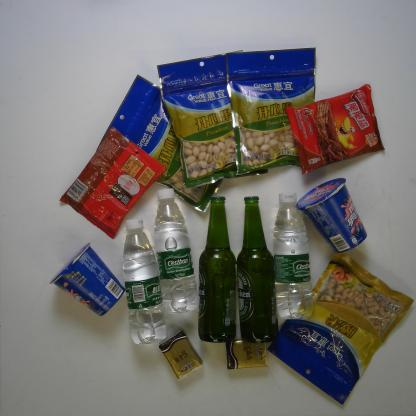Alcohol: (235, 196, 280, 344), (197, 195, 238, 343)
Dessert: (58, 126, 167, 241), (283, 84, 385, 175), (294, 176, 368, 254), (49, 242, 126, 316)
Dried Fruit: (267, 250, 415, 406), (95, 74, 238, 214), (155, 48, 270, 190), (226, 46, 317, 176)
Drink: (152, 187, 200, 315), (122, 217, 167, 346), (272, 191, 314, 320)
Tissue: (158, 329, 204, 382), (224, 338, 268, 370)
